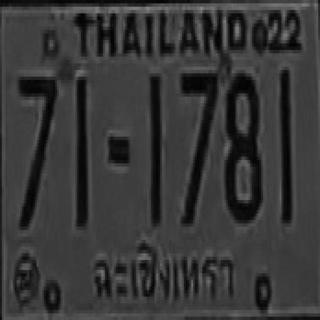N01: (148, 73, 161, 223), (279, 65, 291, 222), (76, 77, 86, 223)
N07: (16, 73, 55, 227), (180, 70, 217, 223)
N08: (223, 70, 260, 220)
P07: (87, 237, 241, 306)
